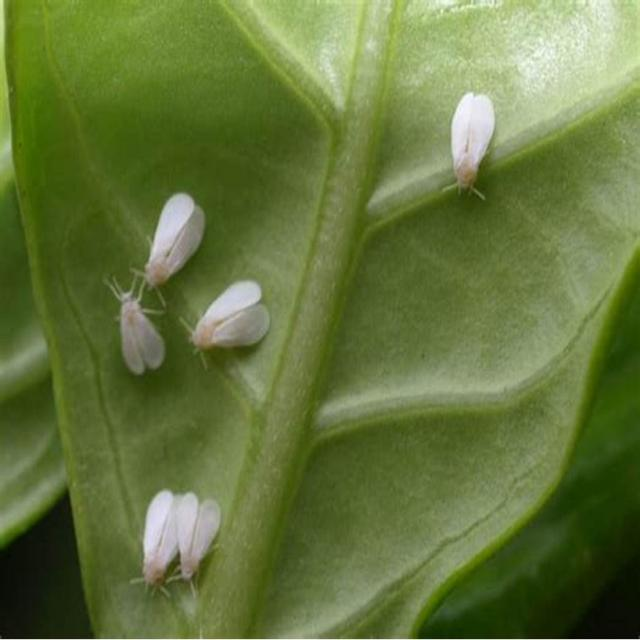Whitefly: (101, 184, 284, 386), (126, 480, 226, 604), (440, 84, 507, 202)
